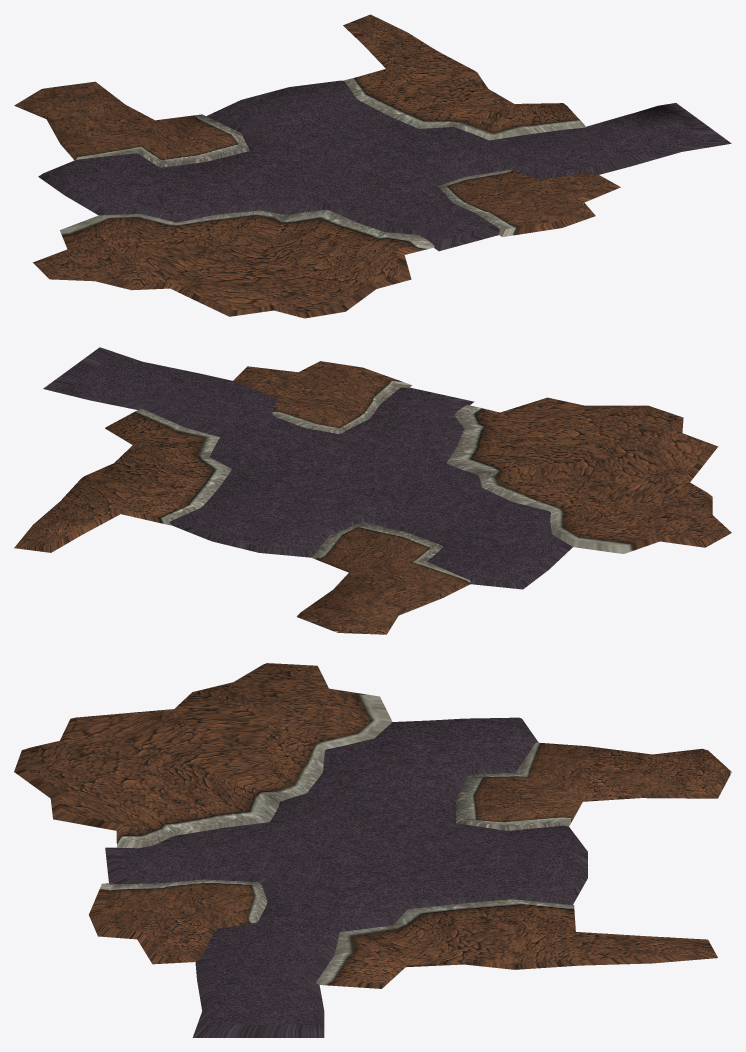
Rendered from mud_blocks.DAE.
3 renders of one model, top to bottom at view 1: azimuth 30°, elevation 25°; view 2: azimuth 150°, elevation 25°; view 3: azimuth 270°, elevation 25°, orthographic. The views are drawn at different scales.
Parts seen in each view (by area): view 1: Box01; view 2: Box01; view 3: Box01.
Part boxes in pixels (x1=…): Box01: x1=14, y1=14, x2=731, y2=318; Box01: x1=14, y1=347, x2=731, y2=634; Box01: x1=14, y1=663, x2=731, y2=1037.
Bounding box in the file's own units: 125 × 0.5681 × 101.
